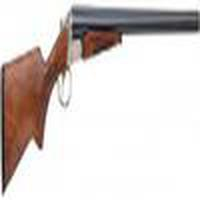gun: (2, 7, 200, 146)
